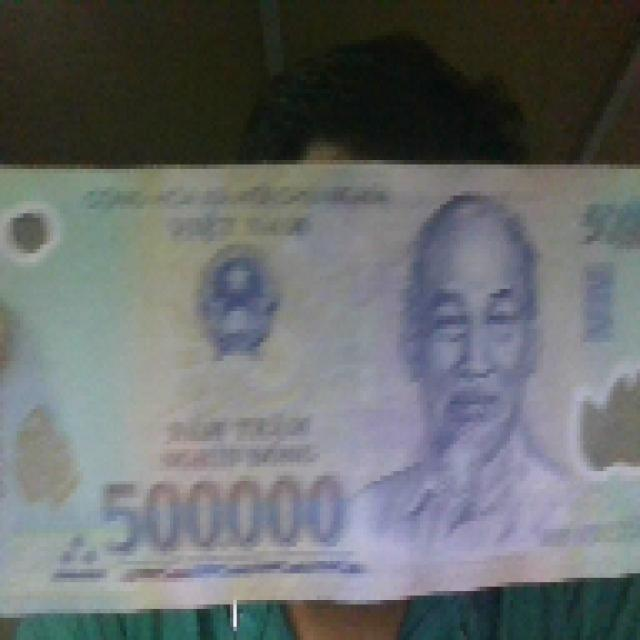500 000 VND: (0, 151, 637, 618)
